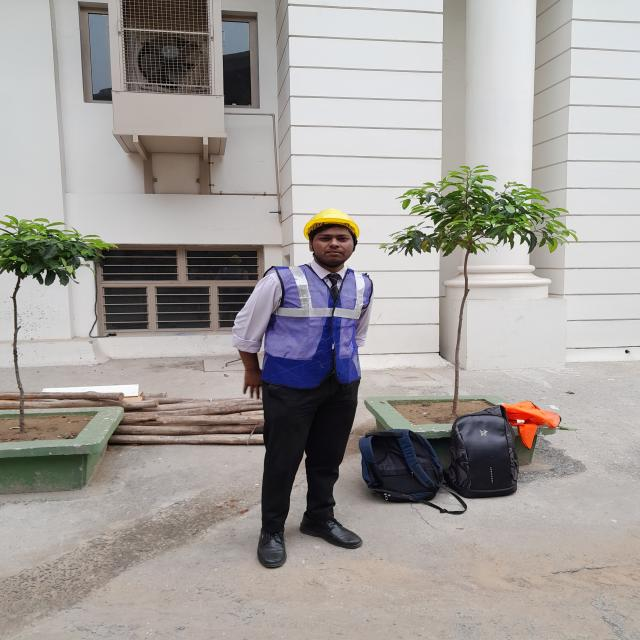safe: (232, 208, 375, 569)
